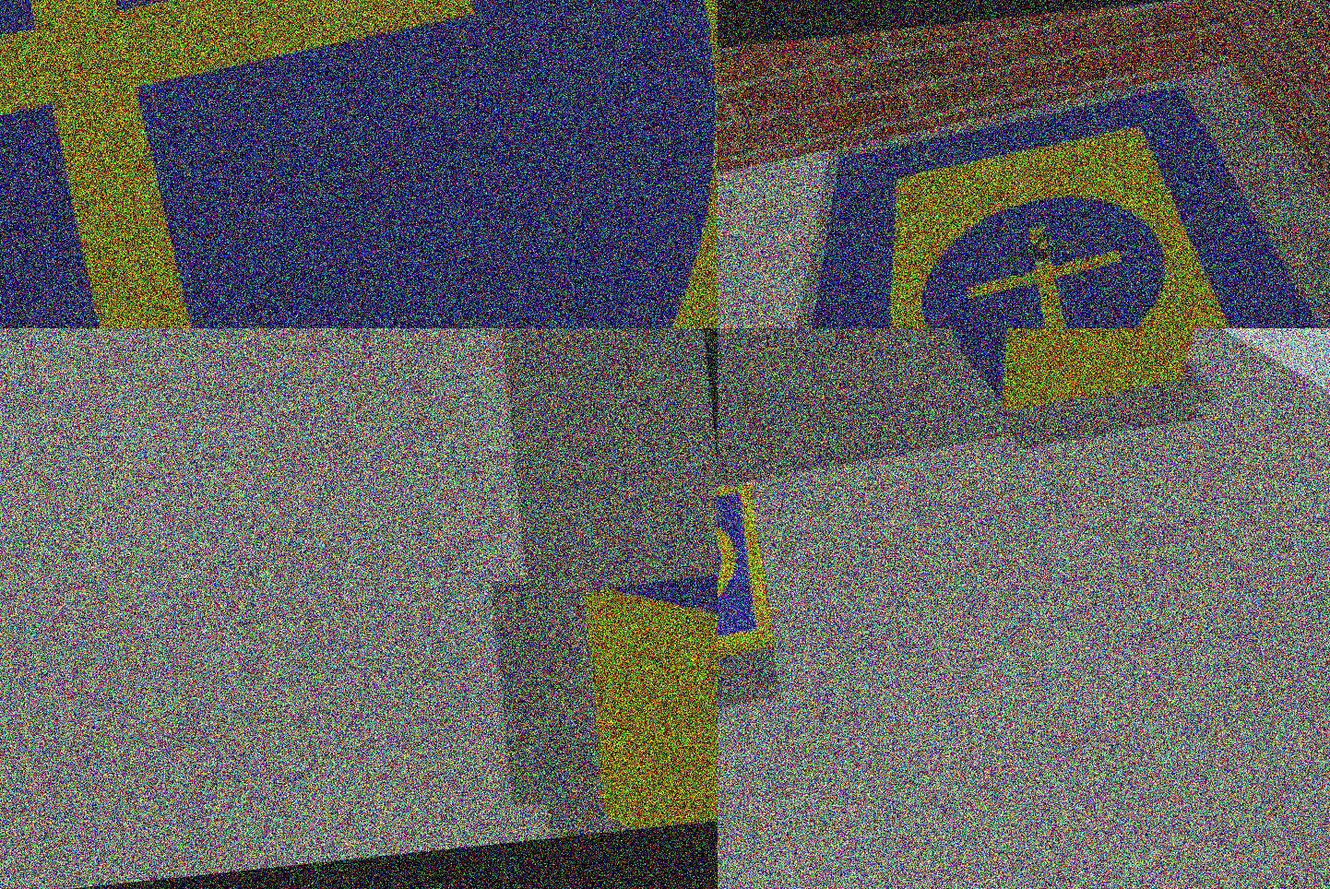large_base: (1, 1, 718, 328), (718, 66, 1330, 328)
